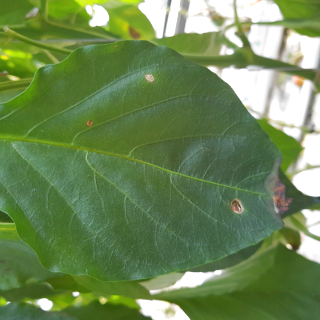graymold: (267, 163, 292, 214)
spotting_disease: (232, 198, 251, 218), (82, 120, 98, 130), (143, 73, 155, 82)
